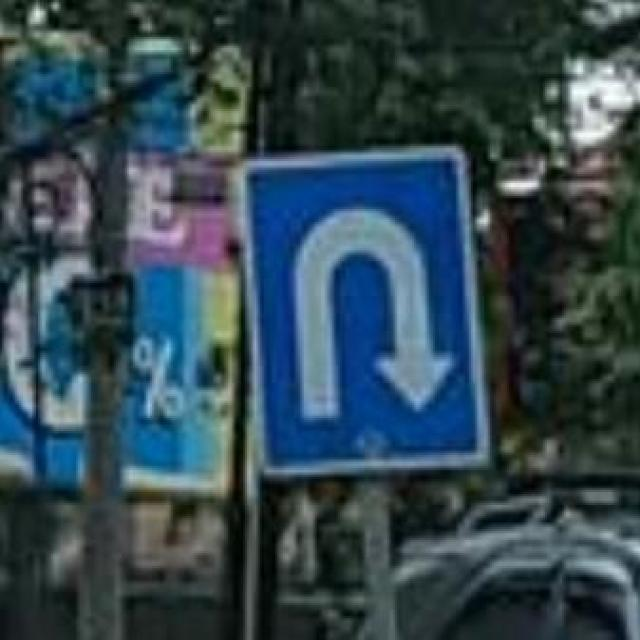traffic sign: (235, 146, 490, 472)
